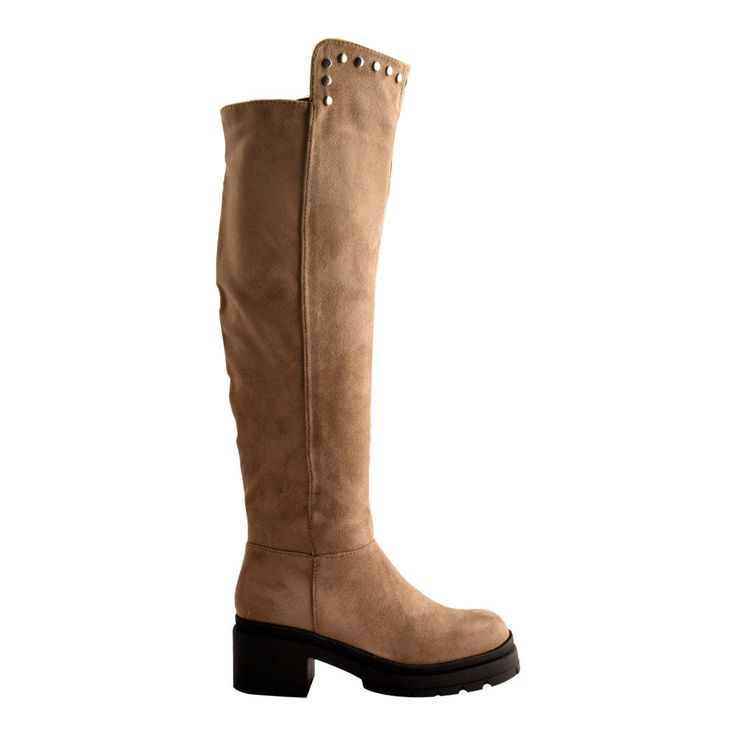gamuza: (220, 38, 511, 665)
